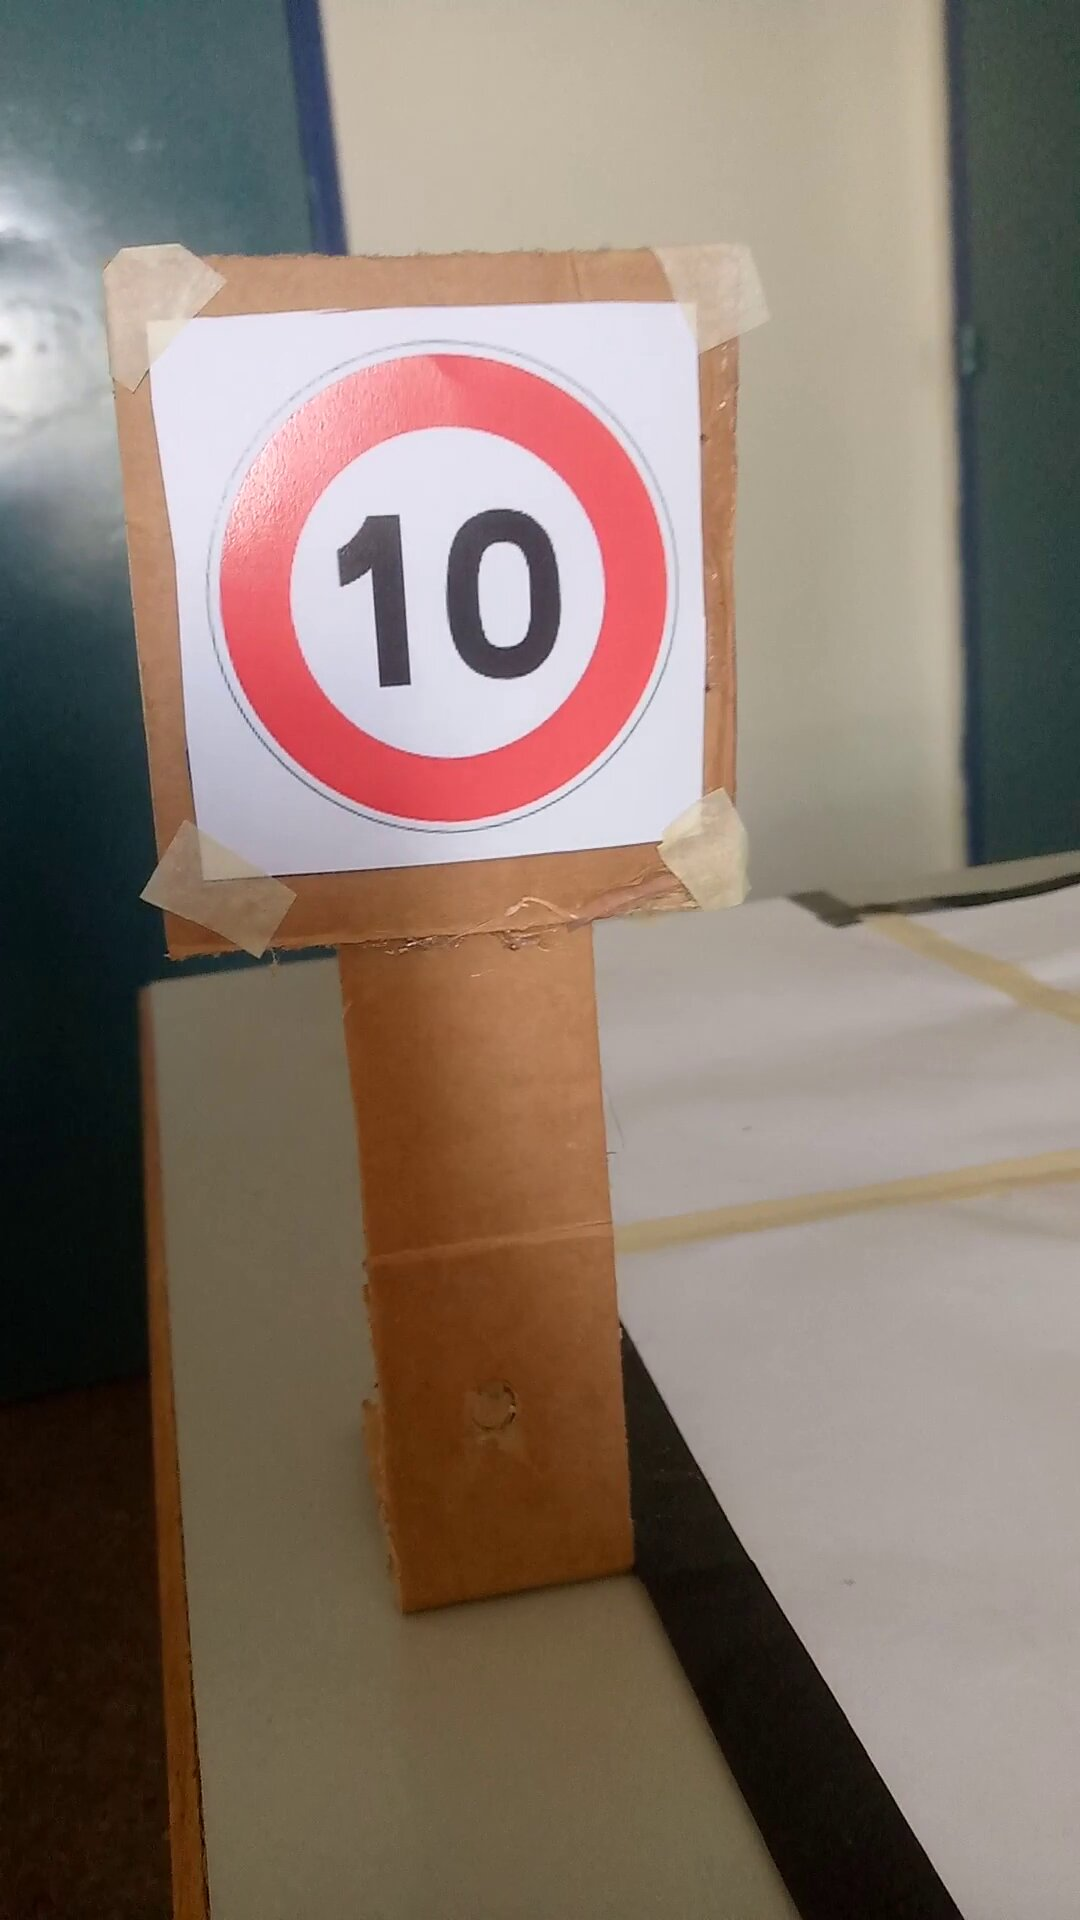panel011: (133, 301, 713, 851)
